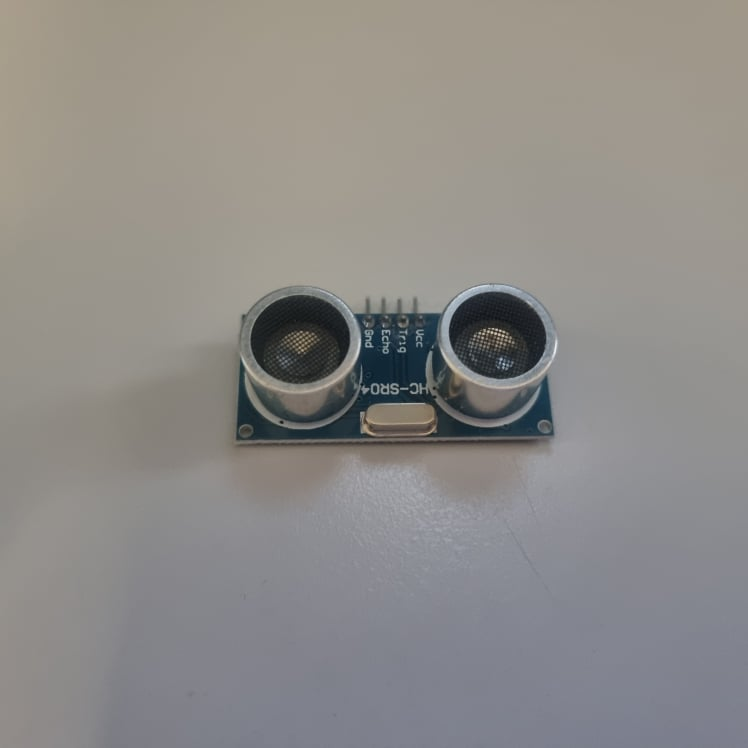SENSOR: (234, 281, 558, 445)
